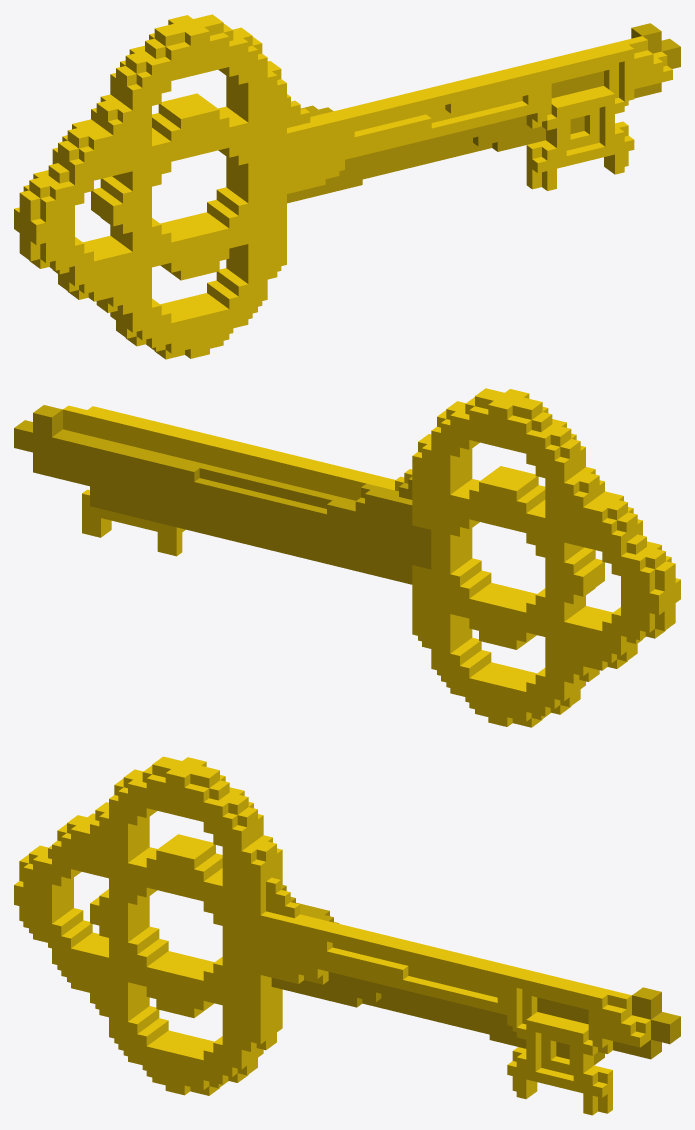
The model's file is key2HD.glb.
3 renders of one model, top to bottom at view 1: azimuth 30°, elevation 25°; view 2: azimuth 150°, elevation 25°; view 3: azimuth 330°, elevation 25°, orthographic.
Visible parts, largest first — view 1: Untitled; view 2: Untitled; view 3: Untitled.
Part boxes in pixels (x1,y1,x2,y2): Untitled: [14, 14, 680, 359]; Untitled: [14, 388, 680, 727]; Untitled: [14, 756, 680, 1115].
Bounding box in the file's own units: 6.8 × 3.2 × 0.4.
Materials: 1 (1 with a texture image).
